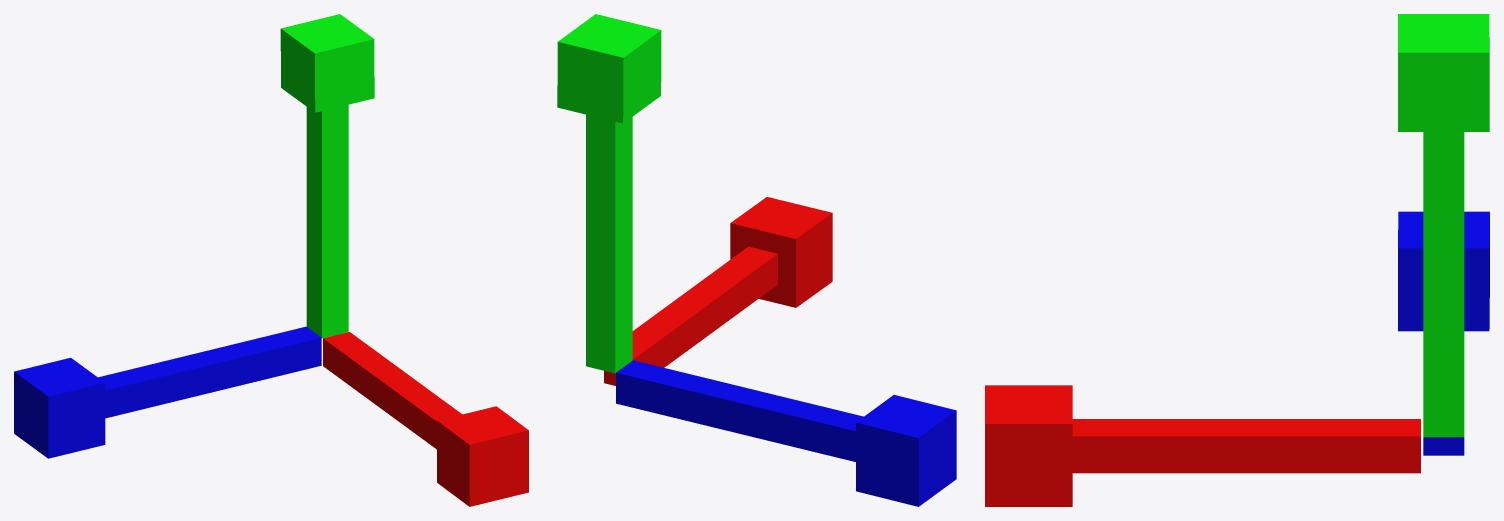
The model's file is ScaleIcon.fbx.
3 renders of one model, left to right at view 1: azimuth 30°, elevation 25°; view 2: azimuth 150°, elevation 25°; view 3: azimuth 270°, elevation 25°, orthographic. The views are drawn at different scales.
Visible parts, largest first — view 1: Cube; view 2: Cube; view 3: Cube.
Part boxes in pixels (x1,y1,x2,y2): Cube: (14,14,528,506); Cube: (557,14,956,506); Cube: (985,14,1489,506).
Size of the model in its own units: 24.48 by 24.4 by 24.57.
Materials: 1 (1 with a texture image).
